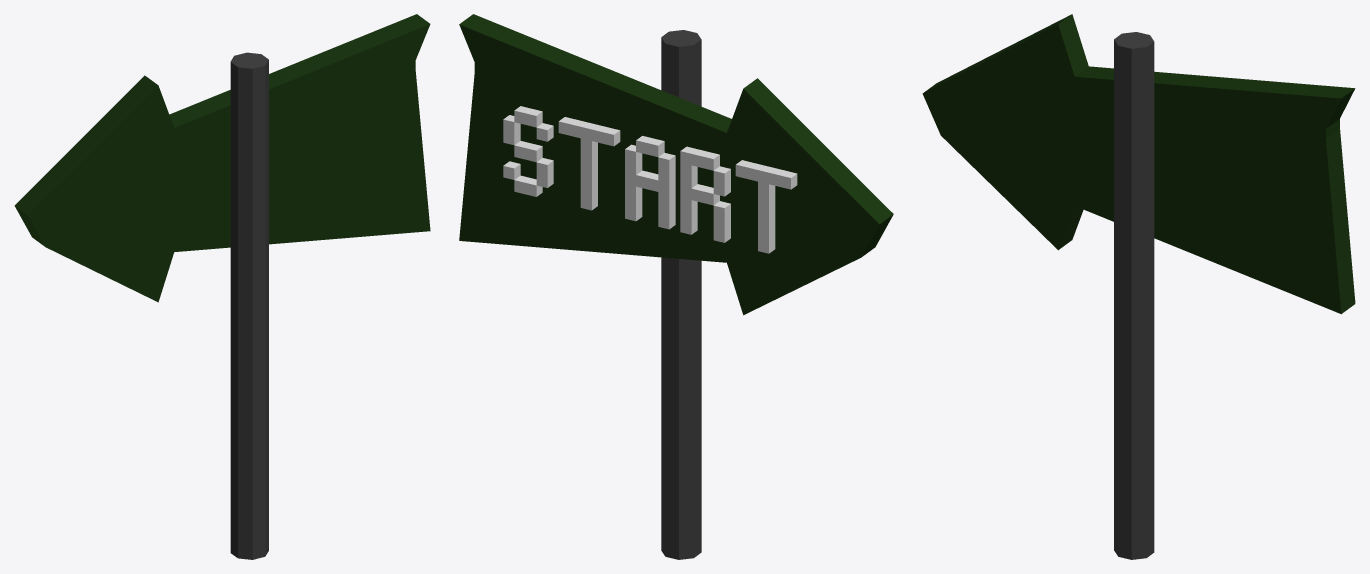
File: Start.fbx
3 views of the same model, side by side, from view 1: azimuth 30°, elevation 25°; view 2: azimuth 150°, elevation 25°; view 3: azimuth 330°, elevation 25° (orthographic). The views are drawn at different scales.
Visible parts, largest first — view 1: Текст; view 2: Текст; view 3: Текст.
Part boxes in pixels (bbox=[...]): Текст: bbox=[14, 14, 430, 559]; Текст: bbox=[459, 14, 893, 559]; Текст: bbox=[922, 14, 1355, 559].
Size of the model in its own units: 177 by 207 by 28.78.
